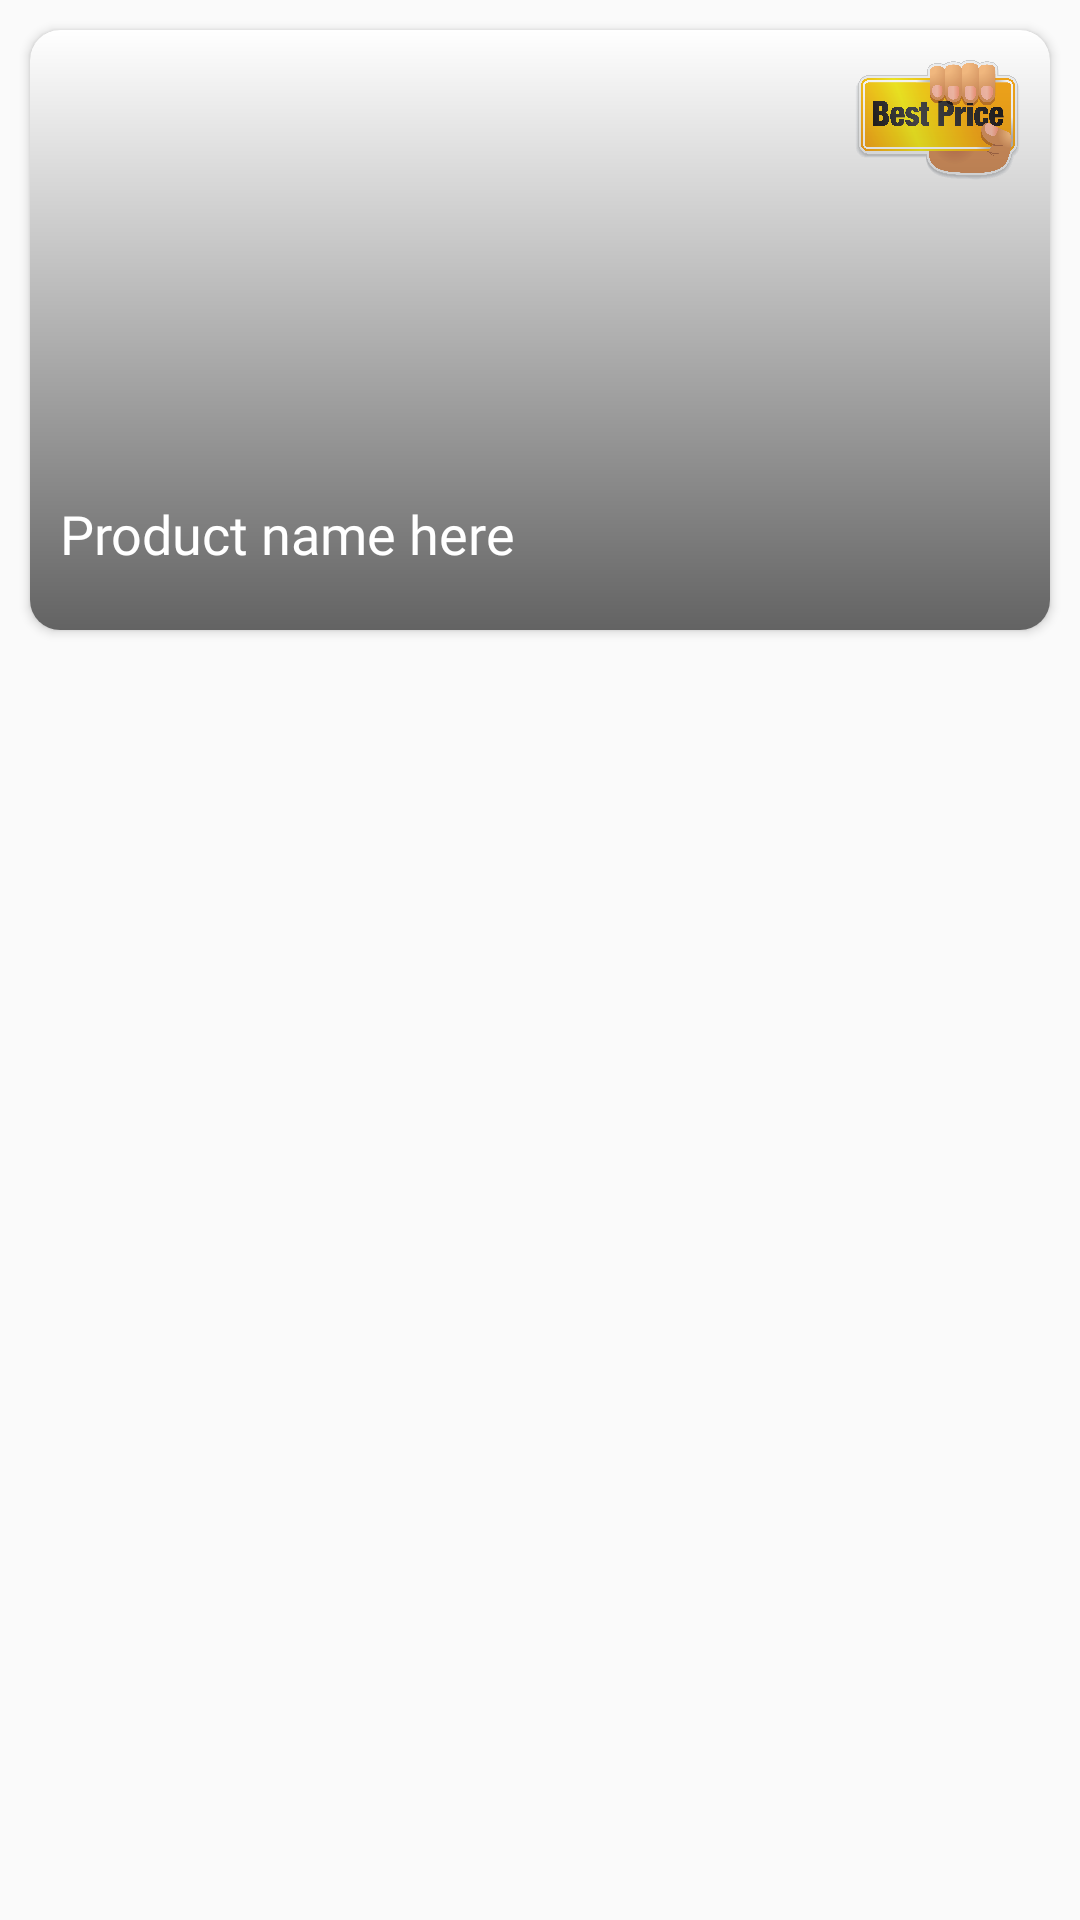

Where to tap for icons on this 1080×1920 app screen, as (x=x, y=y):
best sale: (x=937, y=120)
